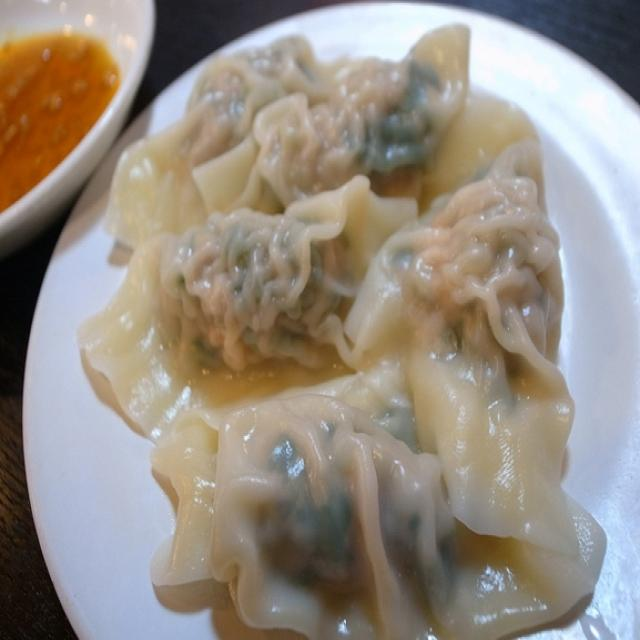带馅早点: (46, 37, 614, 625)
